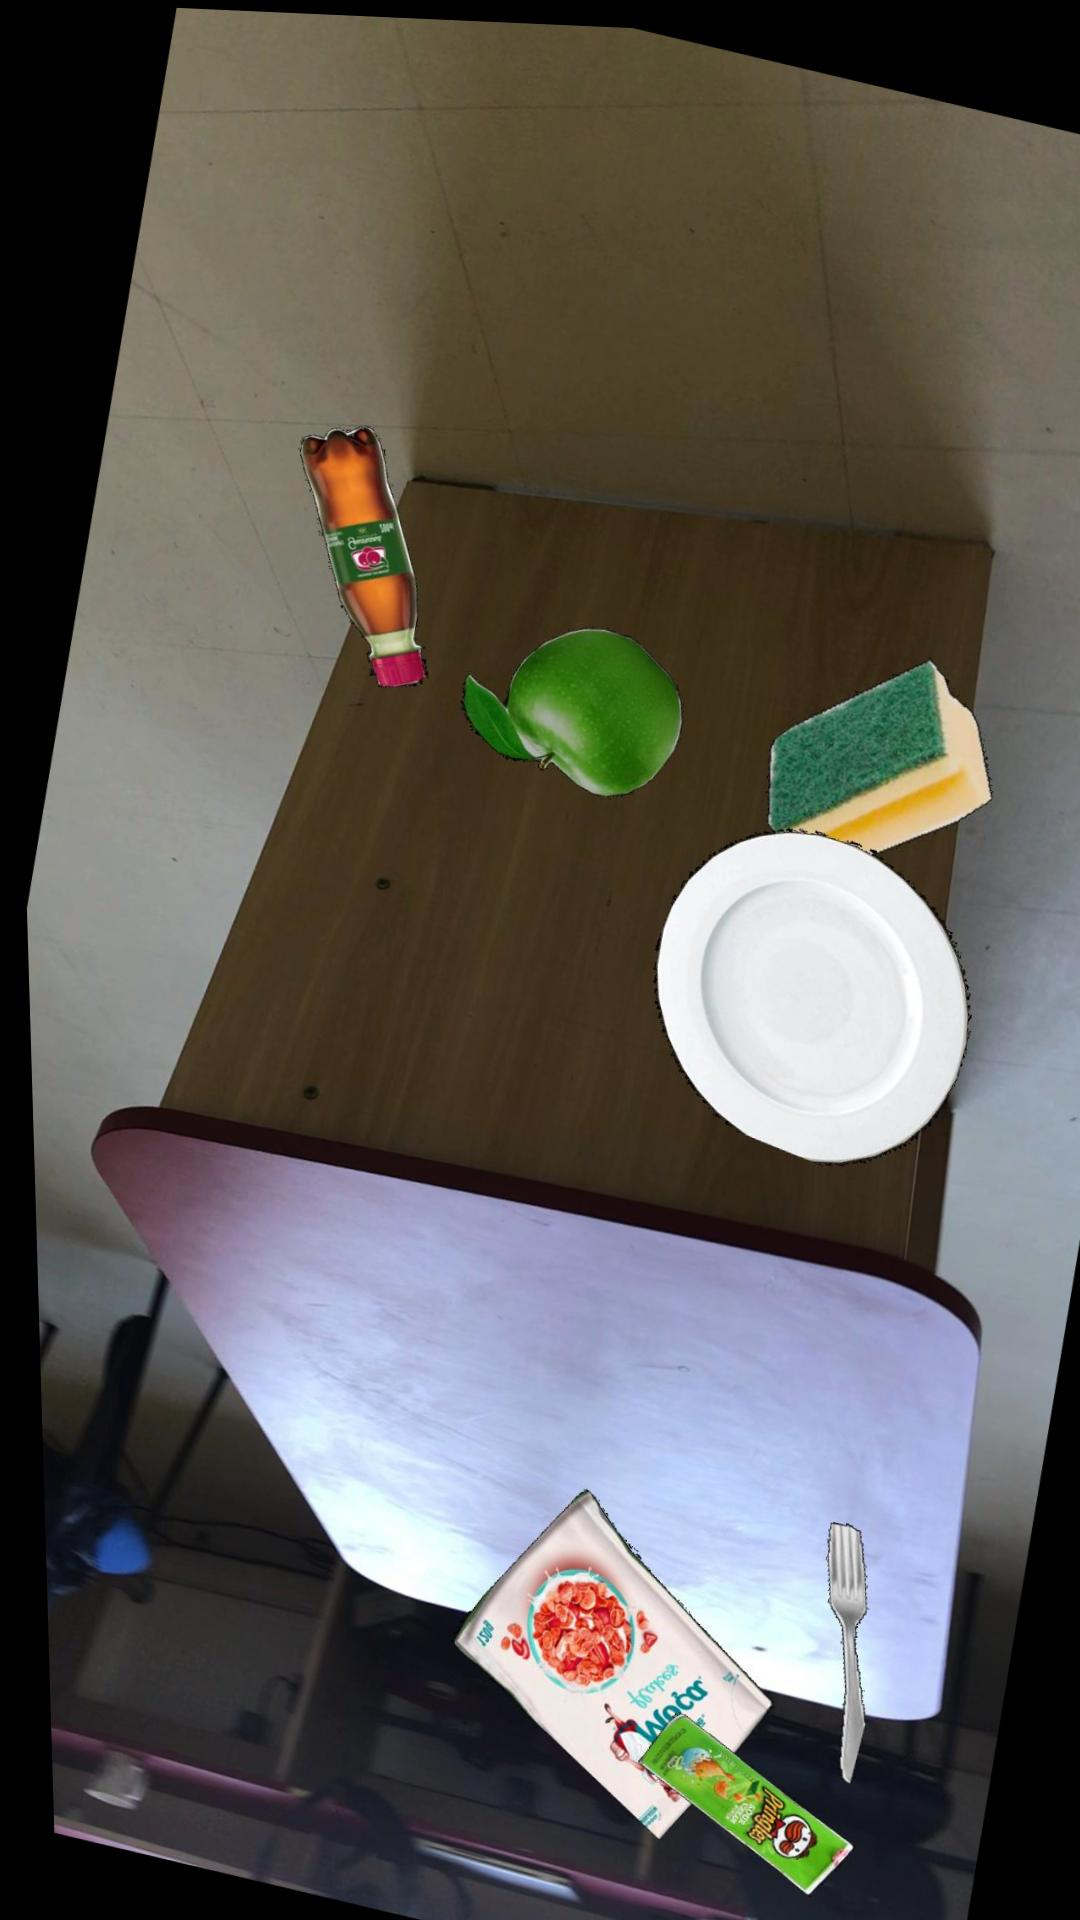corn flakes: (439, 1485, 760, 1836)
fork: (816, 1516, 856, 1776)
green apple: (455, 624, 676, 793)
guarana: (295, 425, 422, 686)
plate: (645, 822, 964, 1160)
pringles: (625, 1709, 841, 1890)
sponge: (760, 651, 986, 848)
